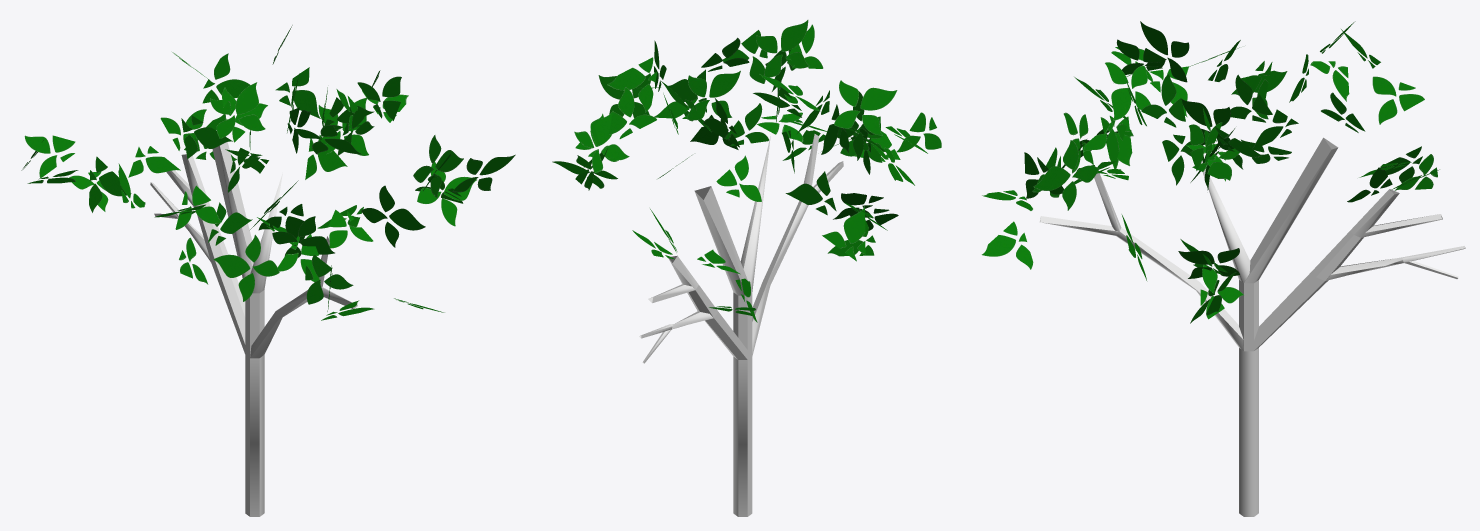
File: LowLod.fbx
3 views of the same model, side by side, from view 1: azimuth 30°, elevation 25°; view 2: azimuth 150°, elevation 25°; view 3: azimuth 270°, elevation 25° (orthographic). The views are drawn at different scales.
Parts seen in each view (by area): view 1: Plane.001, Cylinder.001; view 2: Plane.001, Cylinder.001; view 3: Plane.001, Cylinder.001.
Boxes of the visible parts, x1,y1,x2,y2 form: Plane.001: (21,25,515,320); Cylinder.001: (150,130,357,516); Plane.001: (552,20,941,322); Cylinder.001: (639,134,843,516); Plane.001: (981,21,1439,323); Cylinder.001: (1040,137,1465,516).
Size of the model in its own units: 479 by 537 by 486.
